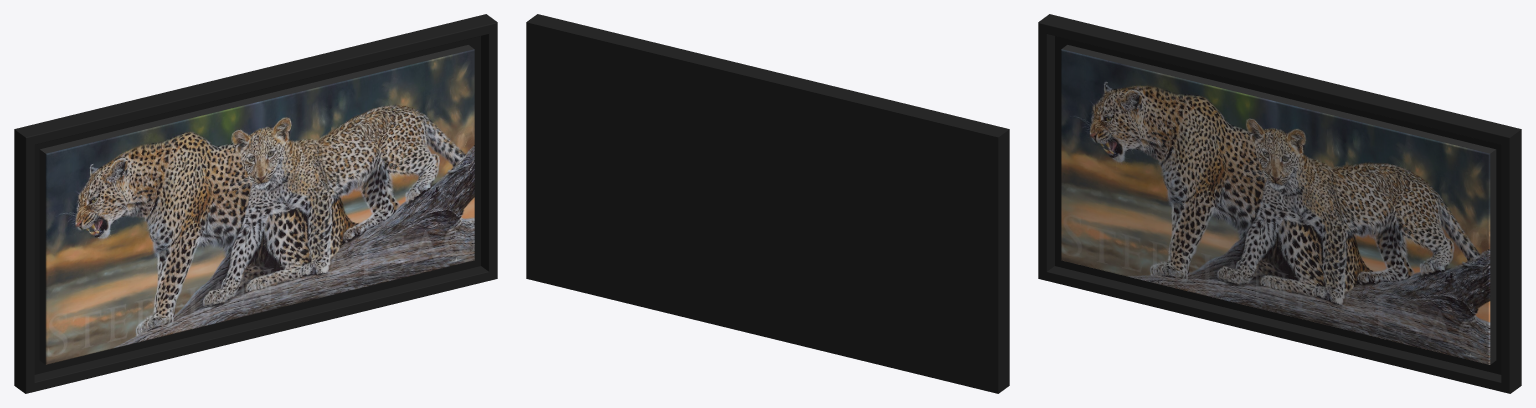
The model's file is tableau-leopards-peinture-classique-5cd76ad3.glb.
The picture shows the model from 3 angles, left to right: view 1: azimuth 30°, elevation 25°; view 2: azimuth 150°, elevation 25°; view 3: azimuth 330°, elevation 25°; orthographic projection.
Parts seen in each view (by area): view 1: Painting; view 2: Painting; view 3: Painting.
Boxes of the visible parts, x1,y1,x2,y2 form: Painting: [14, 14, 497, 393]; Painting: [526, 14, 1009, 393]; Painting: [1038, 14, 1521, 393].
Bounding box in the file's own units: 0.936 × 0.486 × 0.04.
4 materials, 2 textured.
